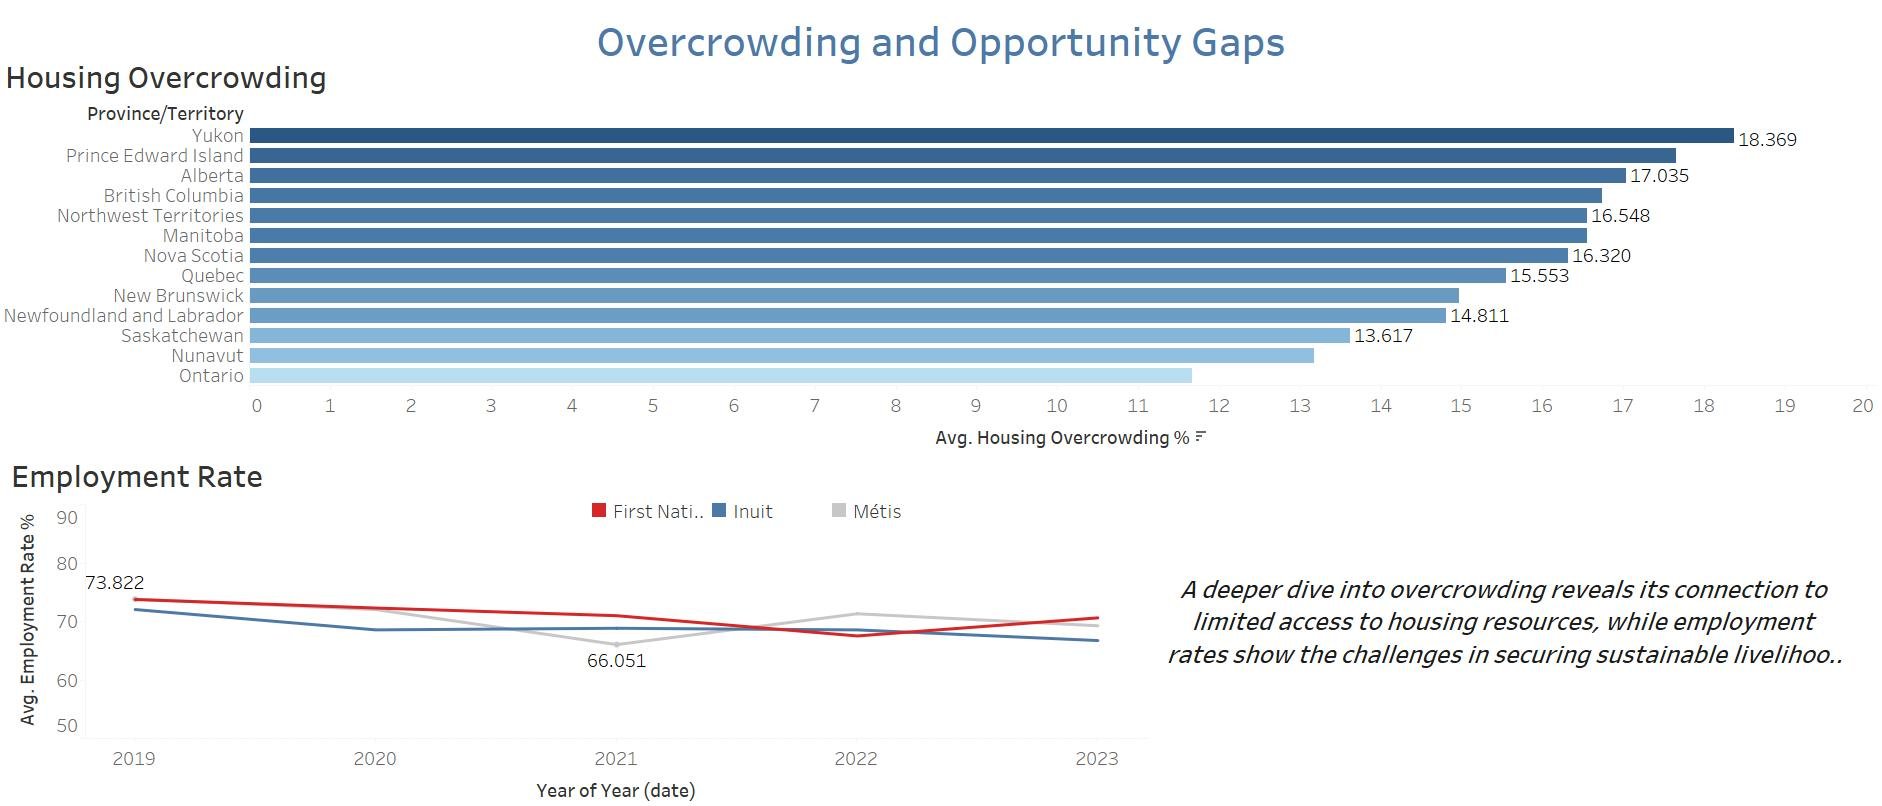

Layout of this report page (visuals, bound fields, positions):
{"tool":"tableau","page":{"name":"Housing-Employment","canvas":[1000,1000],"units":"permille","ordinal":1},"visuals":[{"type":"title","box":[5,9.9,990,78.2]},{"type":"worksheet","title":"Housing Overcrowding","mark":"Automatic","rows":["Province/Territory"],"cols":["Housing_Overcrowding_%"],"box":[0.8,61.4,996.2,519.6]},{"type":"worksheet","title":"Employment Rate","mark":"Automatic","rows":["Employment_Rate_%"],"cols":["Year (date)"],"box":[3.8,556.1,605.7,447.8]},{"type":"legend","title":"Employment Rate","param":"[federated.1pnittl17nefze13nxv6o1q31cec].[none:Indigenous_Group:nk]","box":[311.8,617.5,290.2,28.7]},{"type":"text","box":[616.5,710.2,365.9,121.4]}]}

Visuals, with their boxes on the dashboard's canvas, which has no fixed pixel size, in thousandths of its width and height (x1, y1, x2, y2). These are canvas units, not pixel positions in the 1882x806 screenshot, which may show the page scaled, cropped or inside an application window:
title: select_region(5, 10, 995, 88)
"Housing Overcrowding" worksheet: select_region(1, 61, 997, 581)
"Employment Rate" worksheet: select_region(4, 556, 610, 1004)
"Employment Rate" legend: select_region(312, 618, 602, 646)
text: select_region(616, 710, 982, 832)
